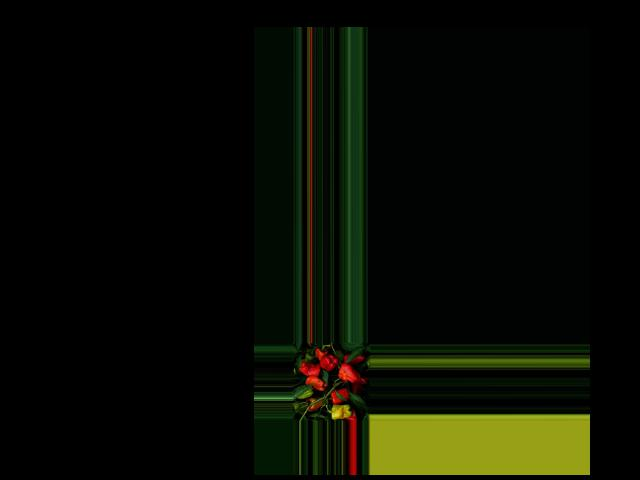bell_pepper: (315, 346, 325, 359)
